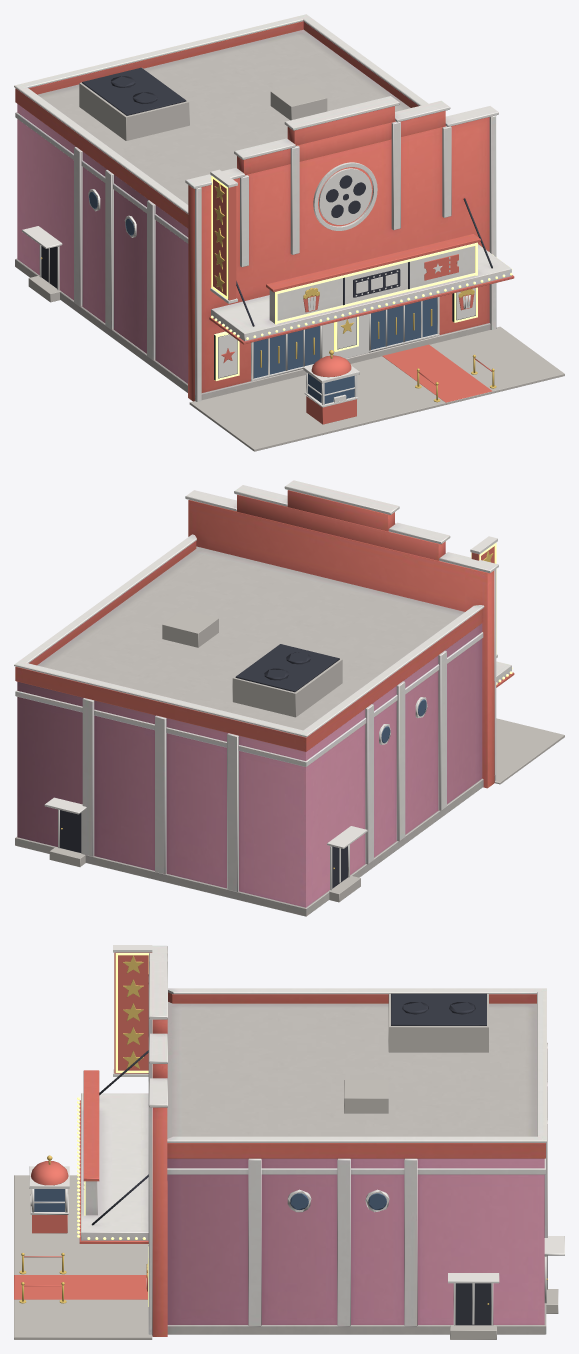
File: cinema-5LWAJ6K6.glb
3 views of the same model, one above another, from view 1: azimuth 30°, elevation 25°; view 2: azimuth 150°, elevation 25°; view 3: azimuth 270°, elevation 25° (orthographic). The views are drawn at different scales.
Visible parts, largest first — view 1: cinema_body, cinema_details, cinema_emblems, cinema_lights; view 2: cinema_body, cinema_details; view 3: cinema_body, cinema_details, cinema_emblems, cinema_lights.
Part boxes in pixels (x1=…): cinema_body: x1=14, y1=14, x2=514, y2=401; cinema_details: x1=22, y1=67, x2=564, y2=451; cinema_emblems: x1=210, y1=162, x2=458, y2=312; cinema_lights: x1=211, y1=175, x2=512, y2=380; cinema_body: x1=14, y1=480, x2=514, y2=916; cinema_details: x1=44, y1=609, x2=564, y2=902; cinema_body: x1=79, y1=945, x2=547, y2=1336; cinema_details: x1=14, y1=993, x2=564, y2=1339; cinema_emblems: x1=83, y1=945, x2=152, y2=1189; cinema_lights: x1=77, y1=953, x2=148, y2=1306.
Bounding box in the file's own units: 17.8 × 13.36 × 24.7.
Materials: 8 (1 with a texture image).
